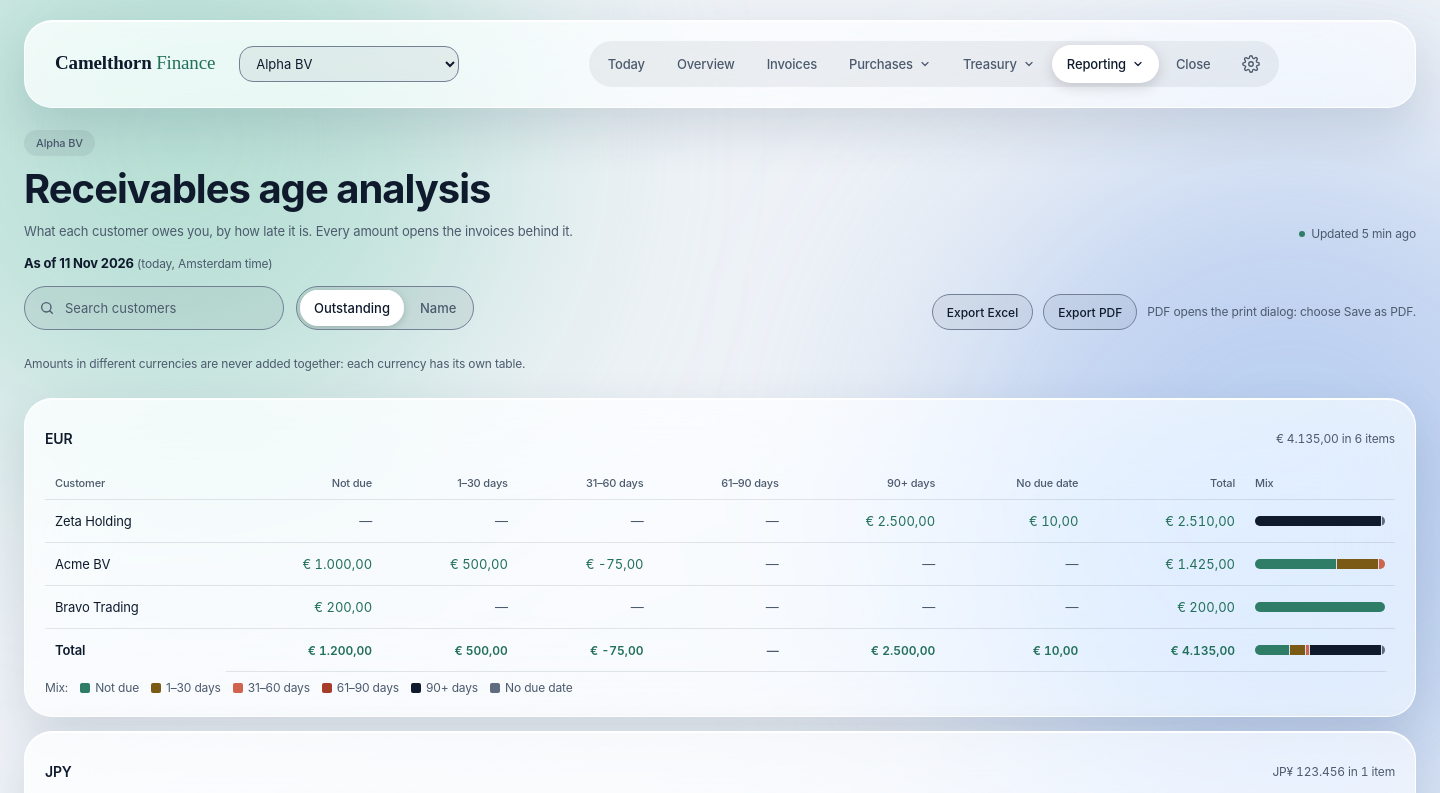
Test case: Receivables age analysis › aborts the old request when the administration changes and shows only the new data
The width and height of the screenshot is (1440, 793).
Expected: the text "Acme BV" is shown, x1=55 y1=556 x2=110 y2=572
Select "Beta BV" in the dropdown named "Administration". click: coordinates (349, 64)
box: x1=239 y1=46 x2=459 y2=82
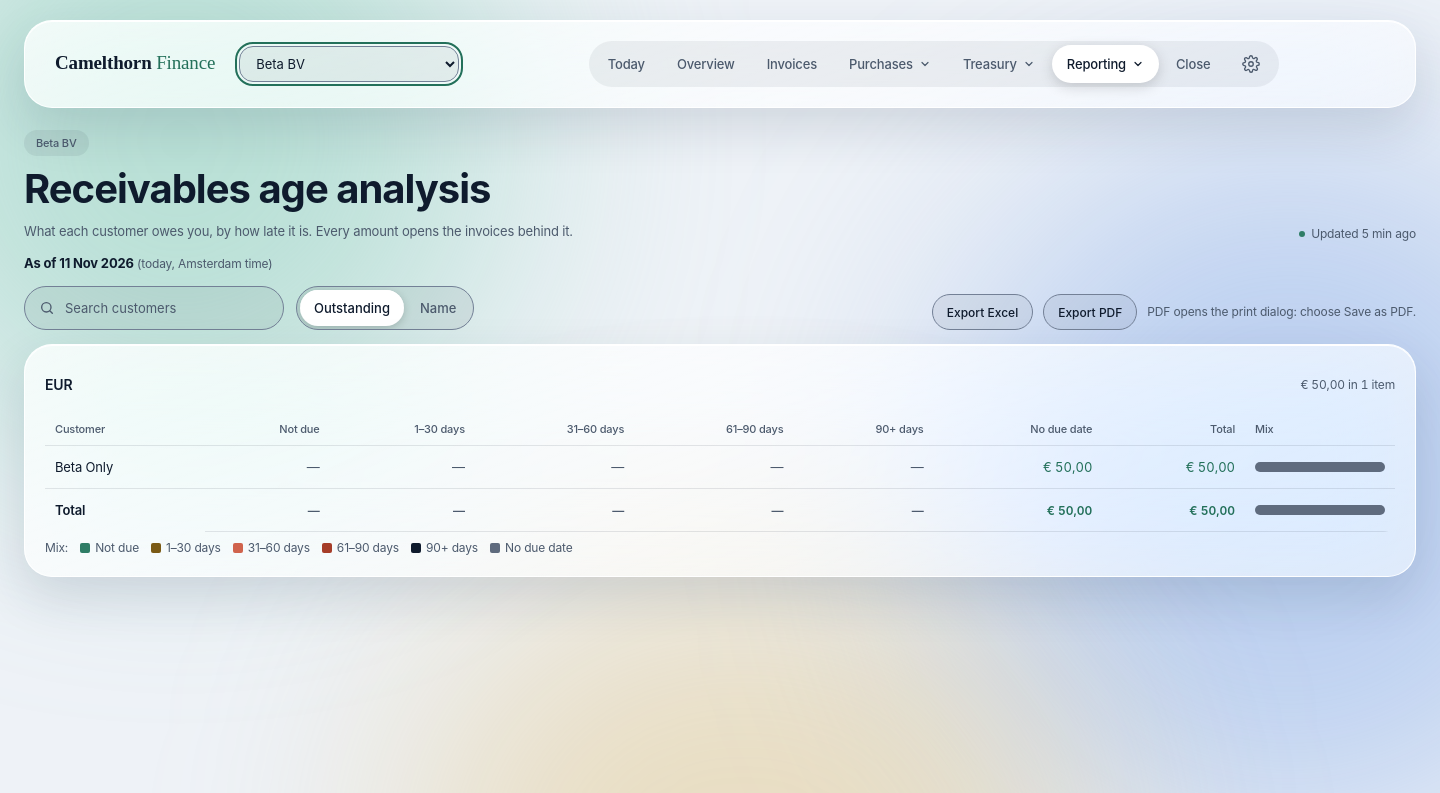
Result: the text "Acme BV" is gone
Result: the text "Beta Only" is shown at x1=55 y1=459 x2=113 y2=475
